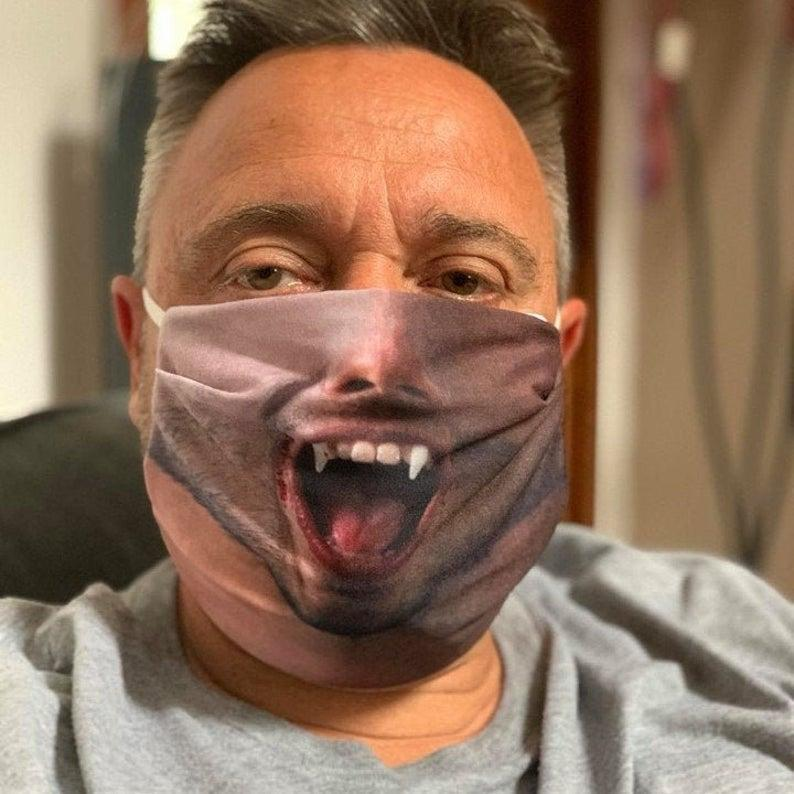OK: (156, 169, 549, 657)
